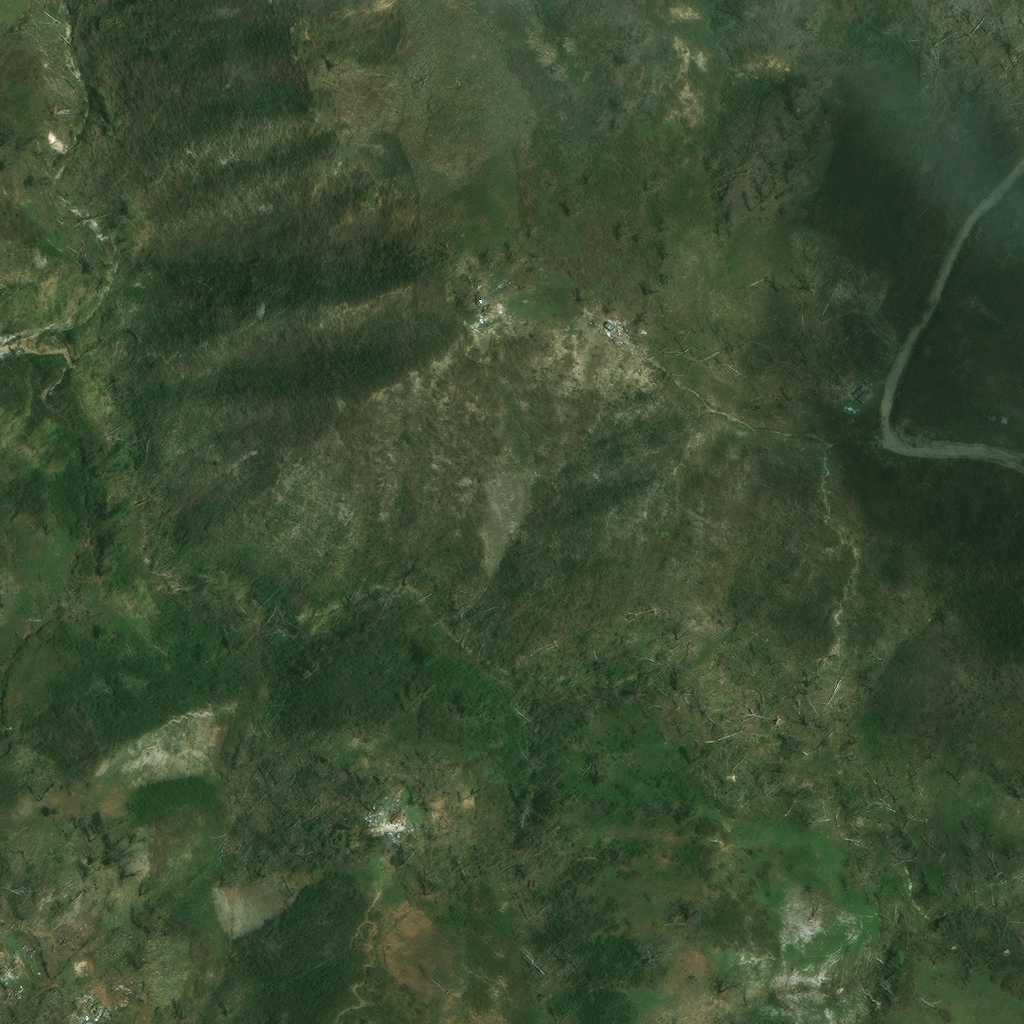destroyed: (93, 990, 115, 1011), (19, 947, 40, 969), (83, 953, 97, 969), (574, 309, 588, 322), (982, 423, 994, 433), (842, 417, 852, 427), (380, 823, 389, 832)
major_damage: (605, 321, 628, 342), (391, 809, 408, 825)
minor_damage: (851, 381, 876, 404)
unclassified: (161, 1010, 175, 1023), (944, 517, 957, 530), (8, 933, 20, 946), (349, 58, 361, 69)
